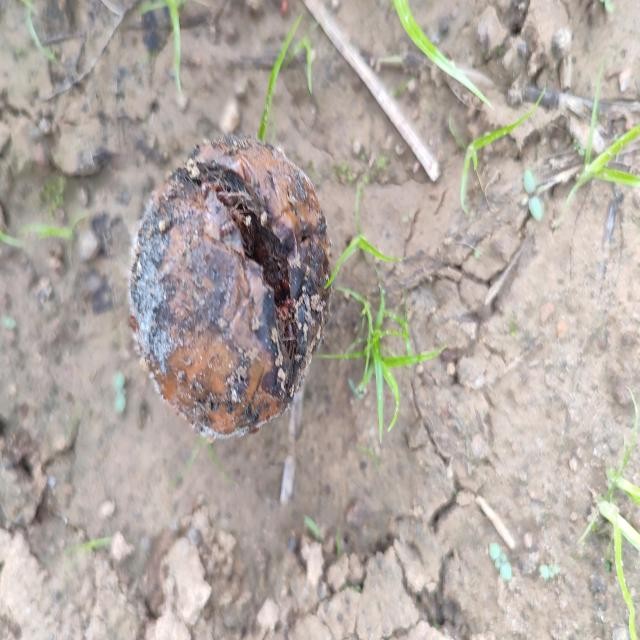damaged: (129, 135, 330, 437)
